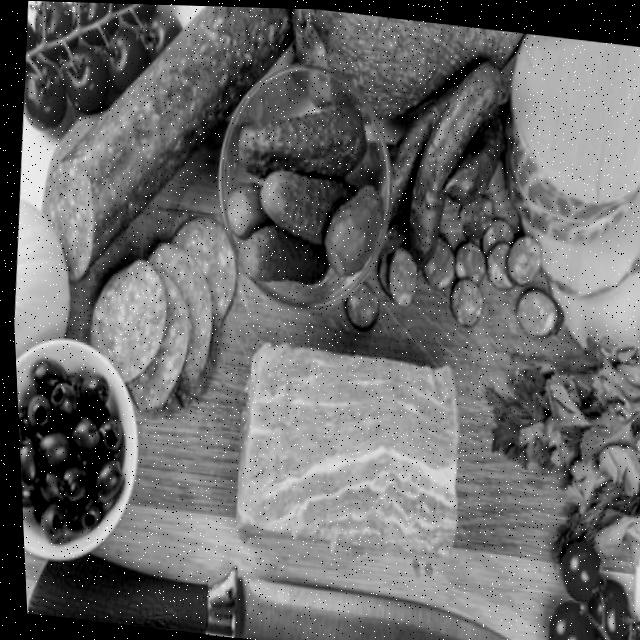knife: (19, 535, 549, 640)
